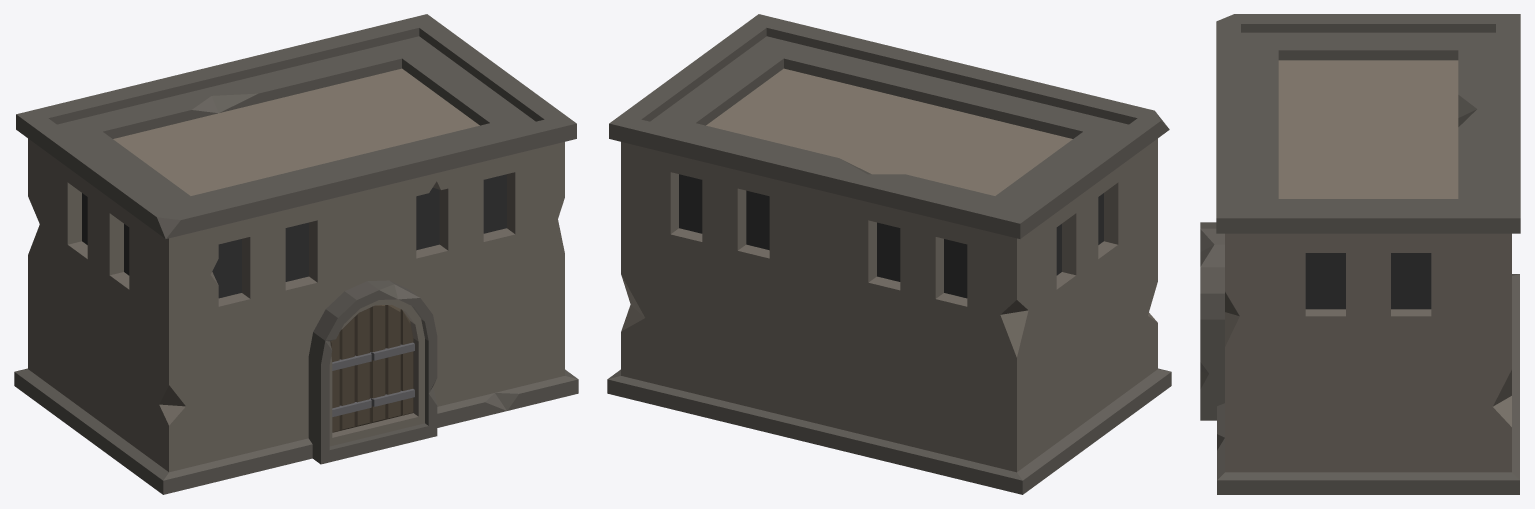
The model's file is SM_Bld_Fort_Room_01.fbx.
The picture shows the model from 3 angles, left to right: view 1: azimuth 30°, elevation 25°; view 2: azimuth 150°, elevation 25°; view 3: azimuth 270°, elevation 25°; orthographic projection.
Visible parts, largest first — view 1: SM_Bld_Fort_Room_01; view 2: SM_Bld_Fort_Room_01; view 3: SM_Bld_Fort_Room_01.
Boxes of the visible parts, x1=… form: SM_Bld_Fort_Room_01: x1=14, y1=14, x2=578, y2=494; SM_Bld_Fort_Room_01: x1=607, y1=14, x2=1171, y2=494; SM_Bld_Fort_Room_01: x1=1200, y1=14, x2=1520, y2=494.
Size of the model in its own units: 10.61 by 6.61 by 6.97.
